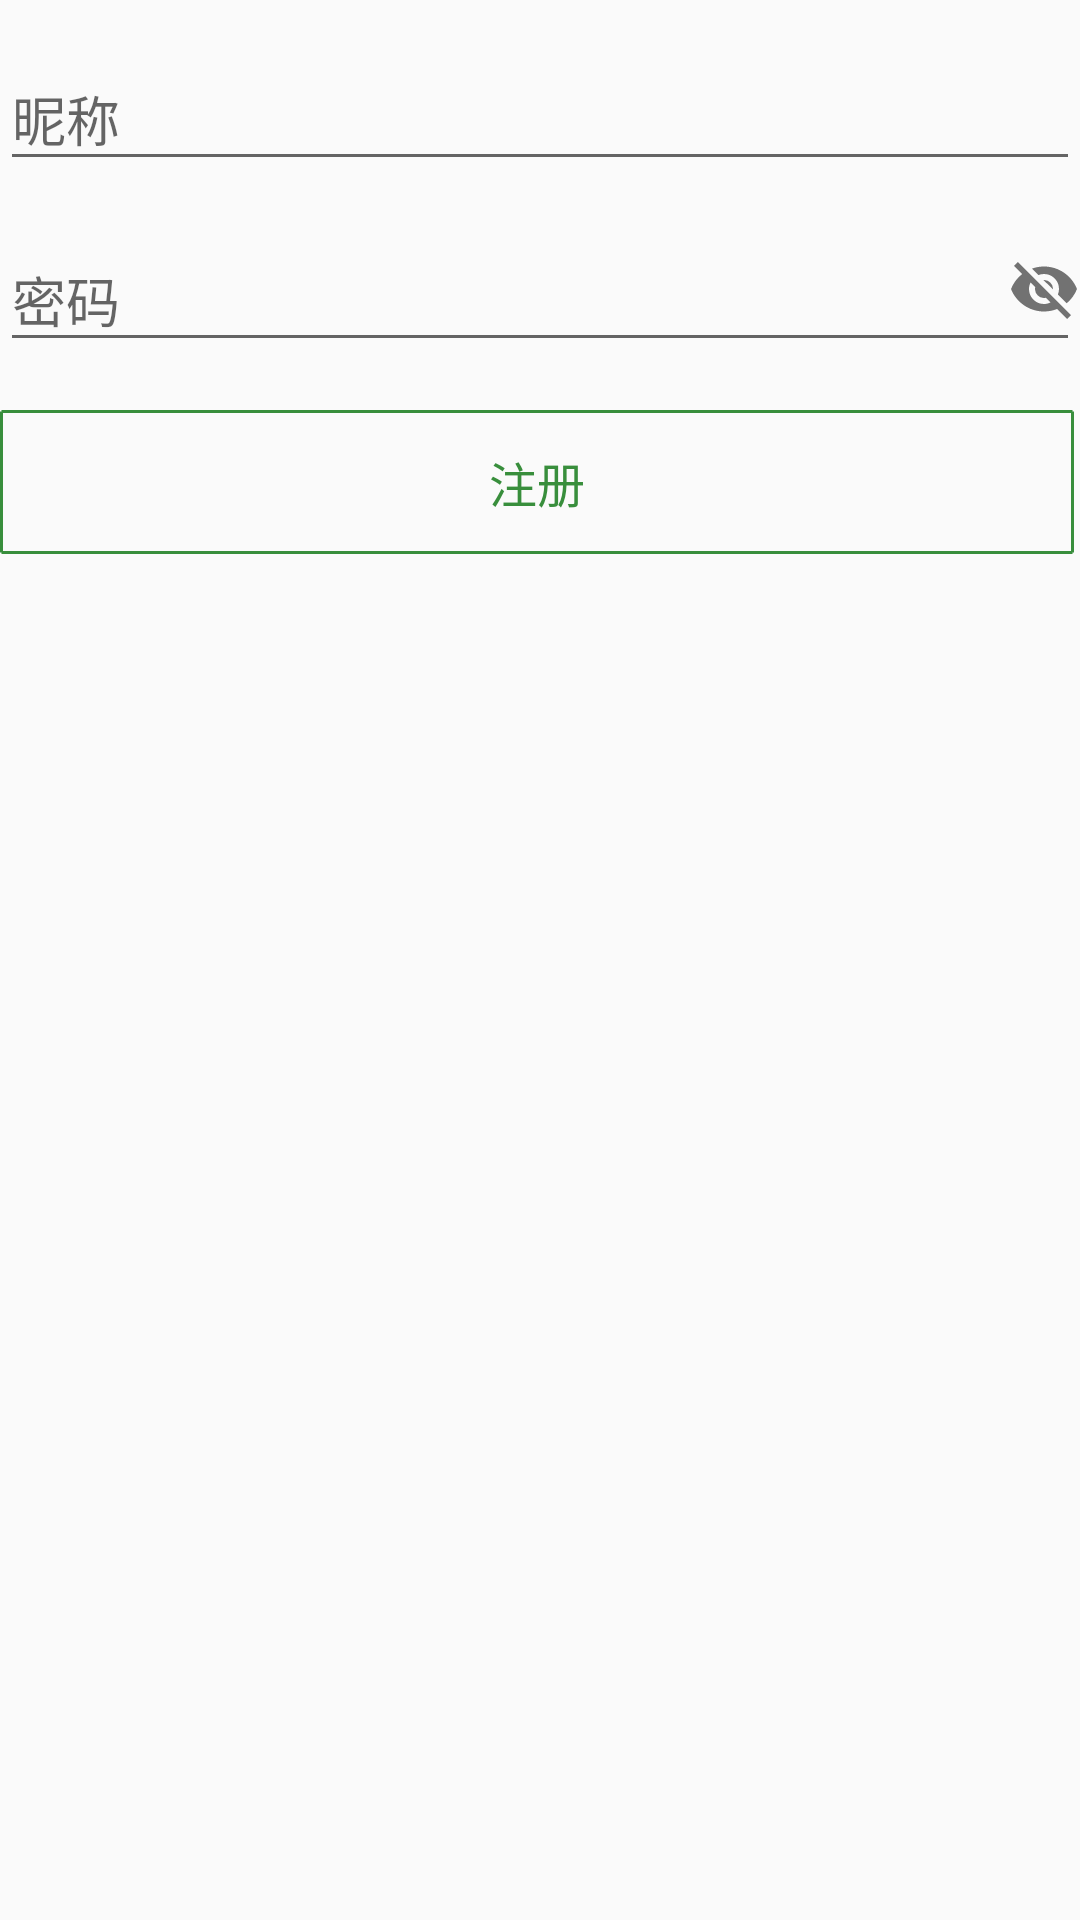

Named icons in this screenshot (1080x1920) and their bounding boxes, (x1, y1, x2, y2):
eye off: (1011, 262, 1077, 319)
